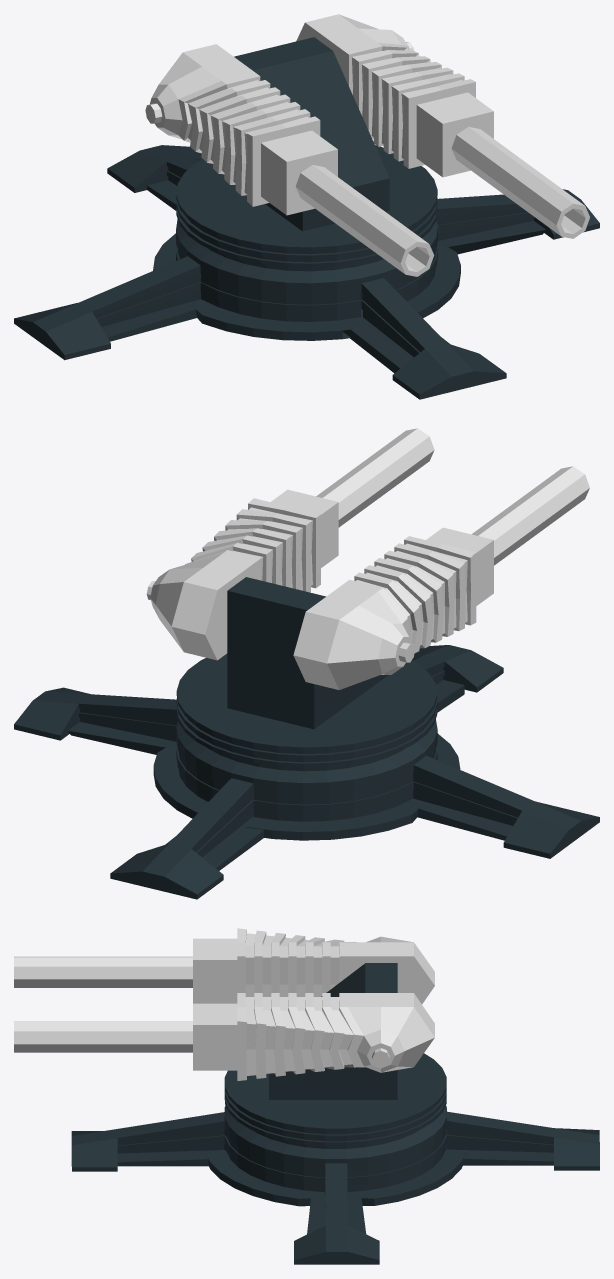
The model's file is CannonV6.fbx.
3 views of the same model, one above another, from view 1: azimuth 30°, elevation 25°; view 2: azimuth 150°, elevation 25°; view 3: azimuth 270°, elevation 25° (orthographic). The views are drawn at different scales.
Visible parts, largest first — view 1: Base.001, RightCannon, LeftCannon, Base, Pivat; view 2: Base.001, RightCannon, LeftCannon, Base, Pivat; view 3: Base.001, LeftCannon, RightCannon, Base, Pivat.
Part boxes in pixels (x1,y1,x2,y2): Base.001: (14,145,599,399); RightCannon: (145,44,434,276); LeftCannon: (296,14,589,238); Base: (176,145,437,267); Pivat: (234,37,389,231); Base.001: (14,645,599,899); RightCannon: (293,466,589,689); LeftCannon: (146,428,434,660); Base: (176,653,437,767); Pivat: (227,577,388,729); Base.001: (71,1105,599,1264); LeftCannon: (14,993,434,1080); RightCannon: (14,928,434,1004); Base: (224,1053,446,1145); Pivat: (269,963,397,1099).
Size of the model in its own units: 415 by 158 by 460.
